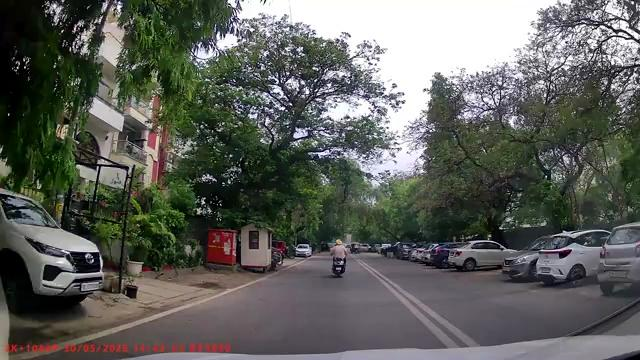motorcycle_with_helmet: (329, 238, 347, 279)
